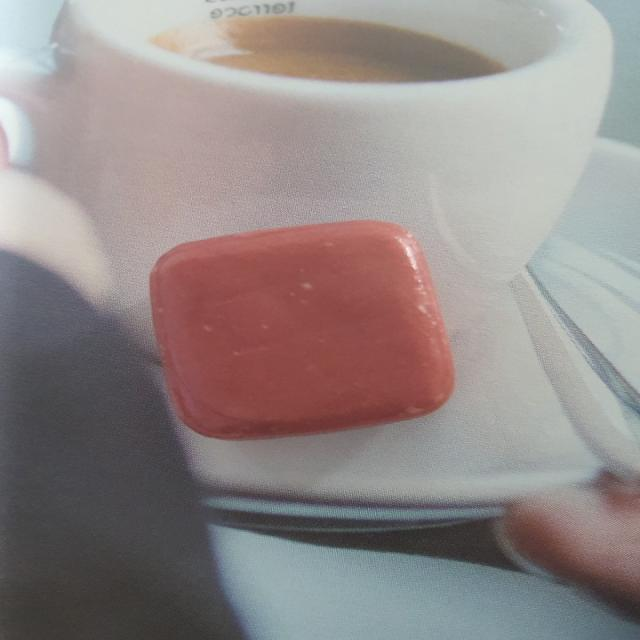pill: (147, 205, 470, 454)
